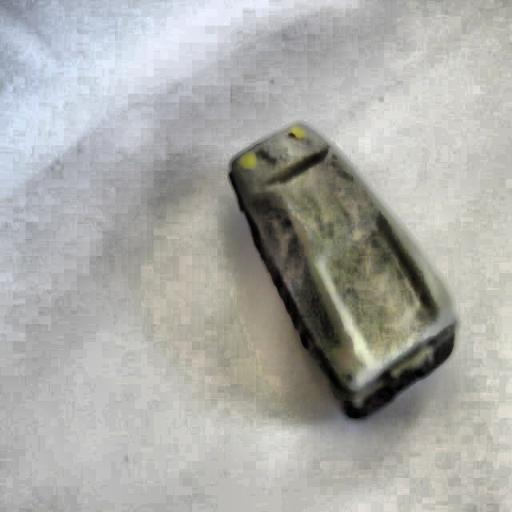normal_car: (225, 116, 462, 425)
